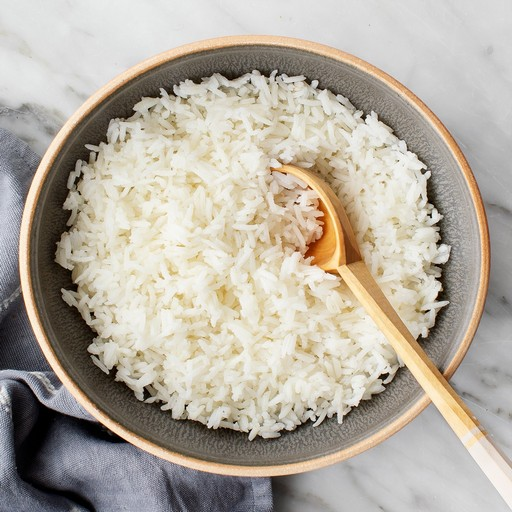rice: (111, 141, 266, 379)
